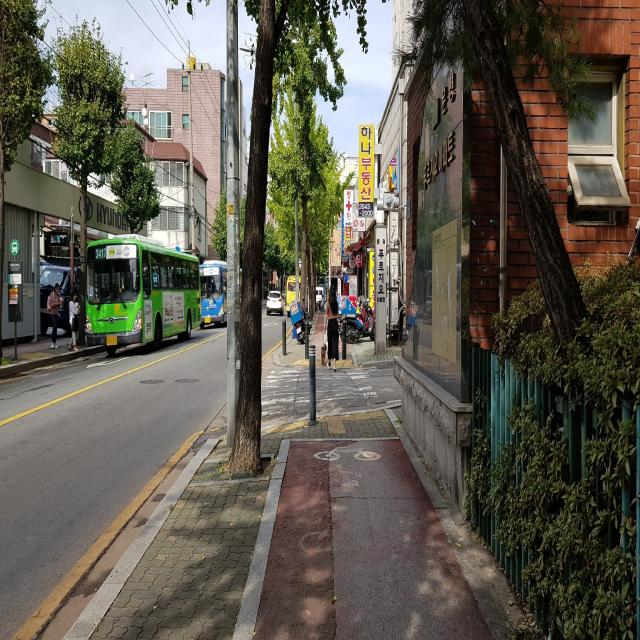횡단보도: (260, 369, 378, 416)
